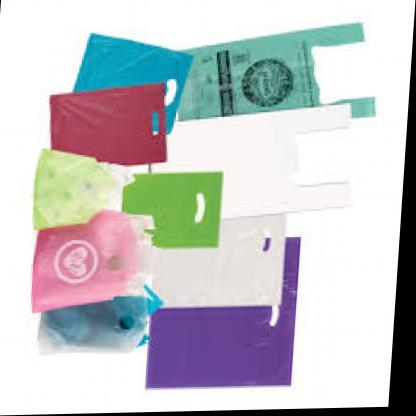Plastic: (22, 217, 177, 308), (22, 156, 158, 230), (29, 288, 163, 362)
